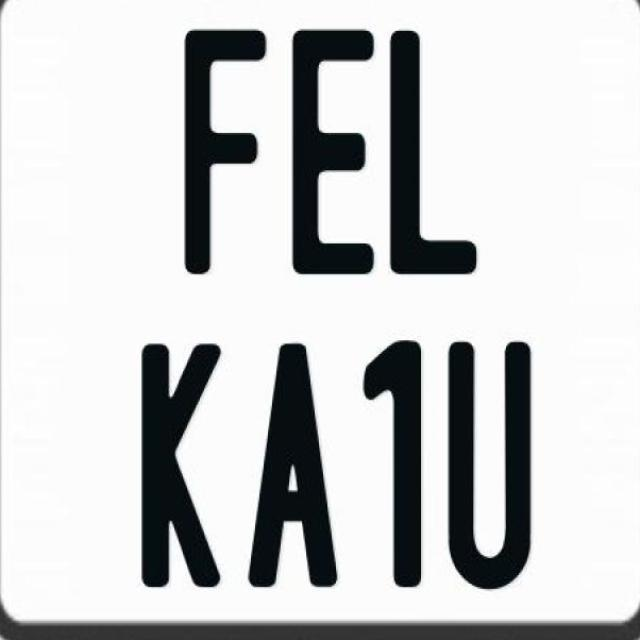license-plate: (2, 10, 640, 624)
